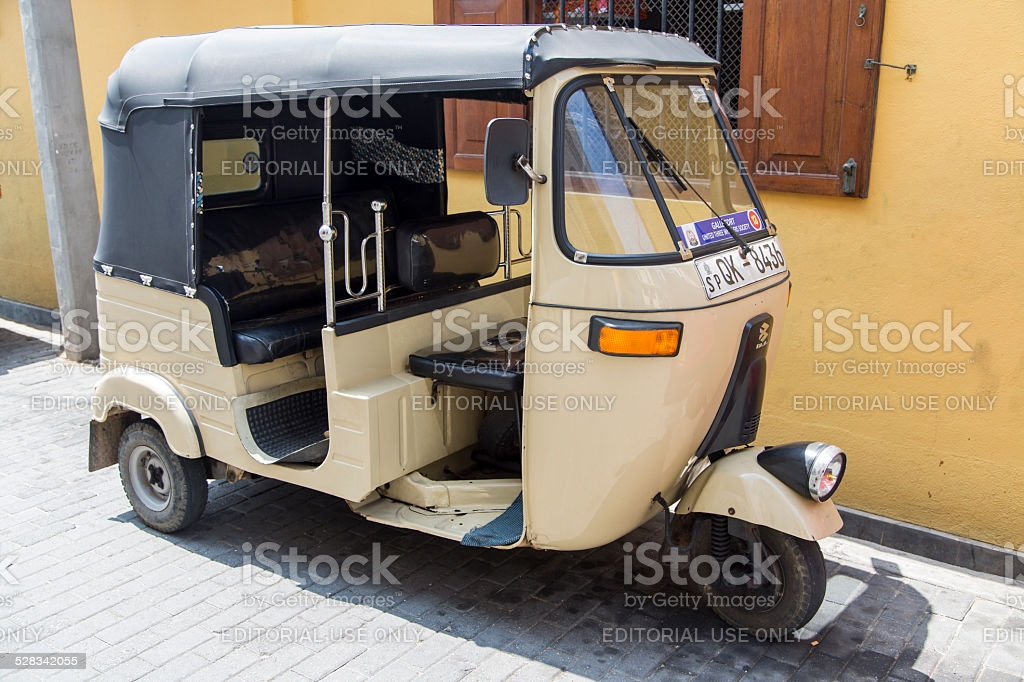rickshaw: (90, 22, 849, 645)
